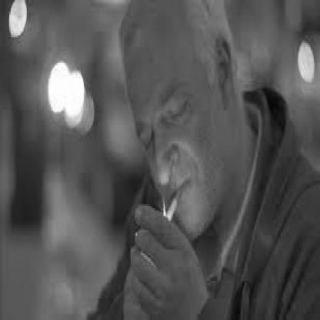other: (4, 0, 108, 171)
